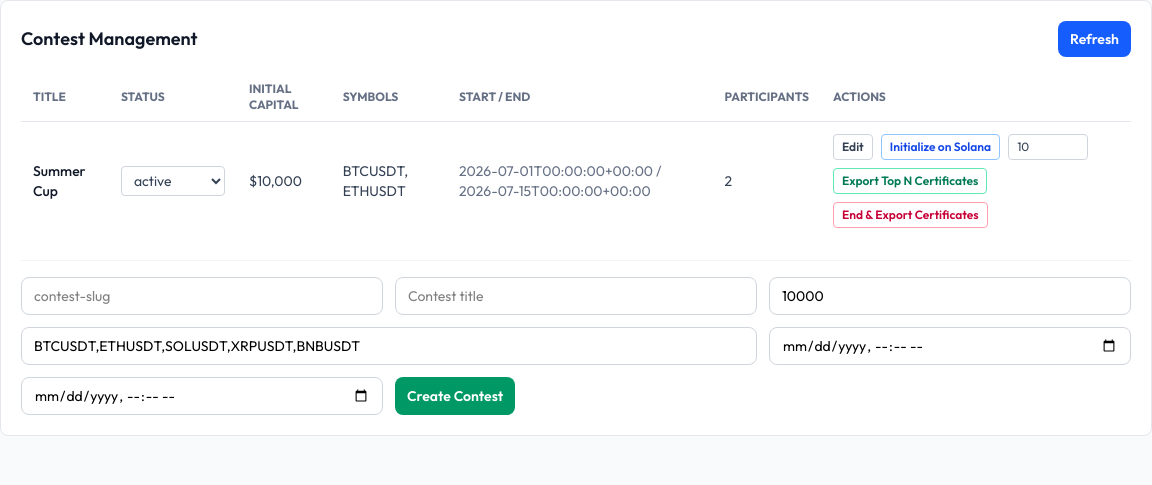
TabContests › does not end and export when contest is not initialized on-chain
The image size is (1152, 485).
Click the button with test id "end-export-summer-cup" at (910, 215), box [833,202,988,228]
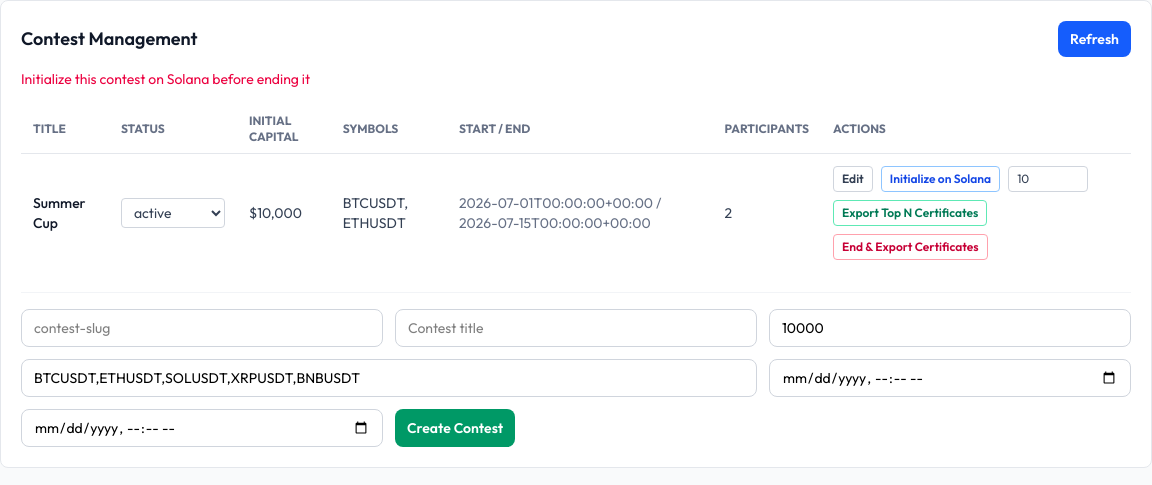
Check: the text "Initialize this contest on Solana before ending it" is shown, box [21,70,310,88]
